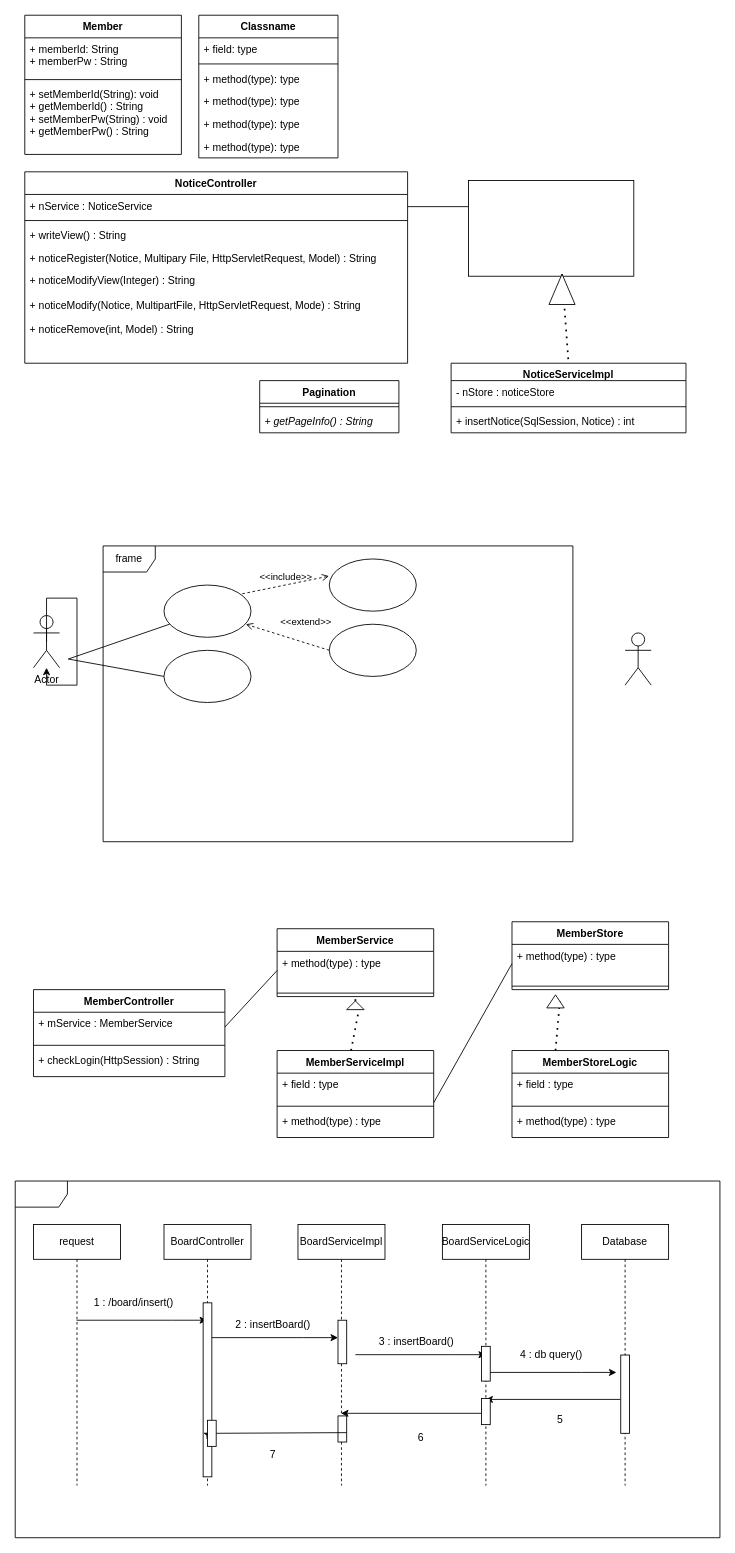
Image size: 735x1553. Some labels were removed from this diagram. Each missing label, with the centre of its shape:
<<Interface>> NoticeSerice - nStore : noticeStore + insertNotice(Notice) : int: point (551, 228)
Second director: point (637, 658)
Use Case: point (207, 676)
댓글작성: point (207, 610)
로그인: point (372, 584)
보드 등록: point (367, 1359)
이미지 업로드: point (372, 649)
